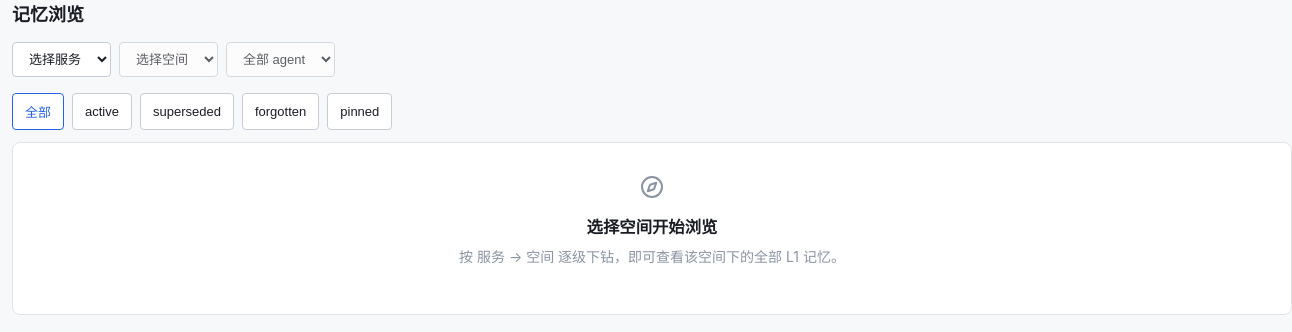
Test: memories page (M3-05) › status filter shows only matching rows
This screenshot has width=1292, height=332.
Select "work" in the dropdown named "service". click: (62, 60)
box: left=12, top=42, right=111, bottom=77
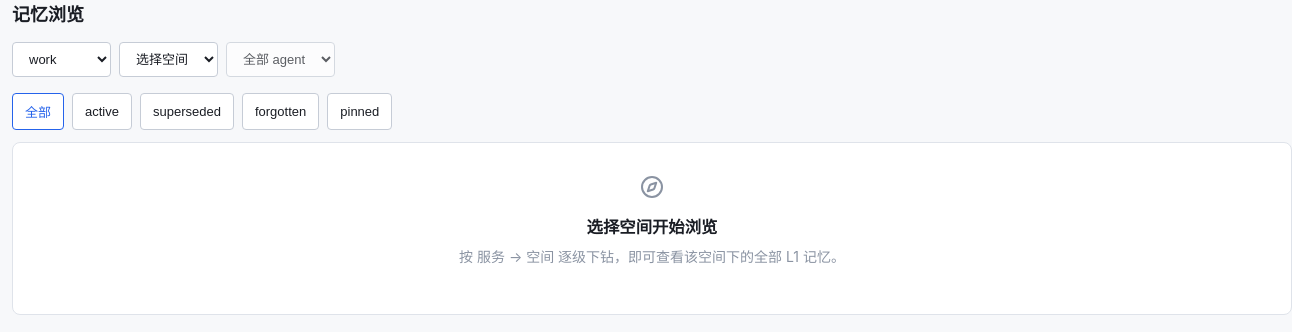
Select "default" in the dropdown named "space". click: (168, 60)
box: left=119, top=42, right=218, bottom=77
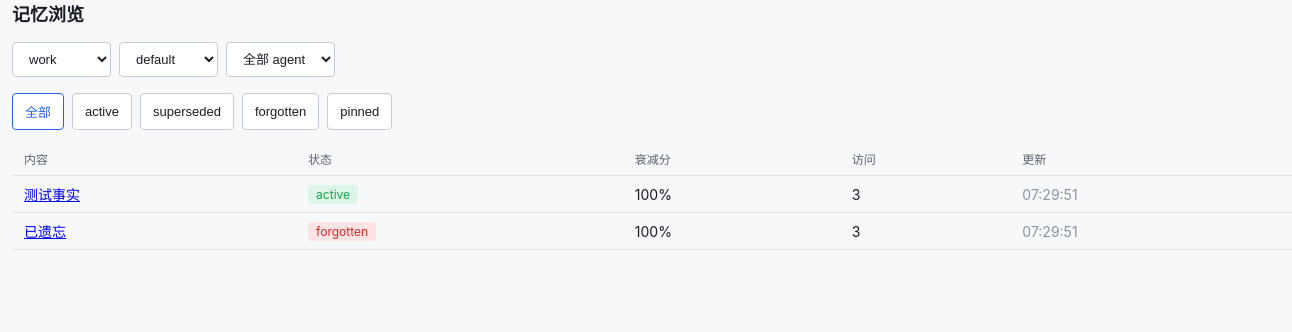
Expected: the table with test id "memory-table" is shown, left=12, top=142, right=1291, bottom=250
Note: first match is the filter button (badge in the table also says forgotten)
Click the button "forgotten". click: (281, 112)
box: left=242, top=93, right=319, bottom=130
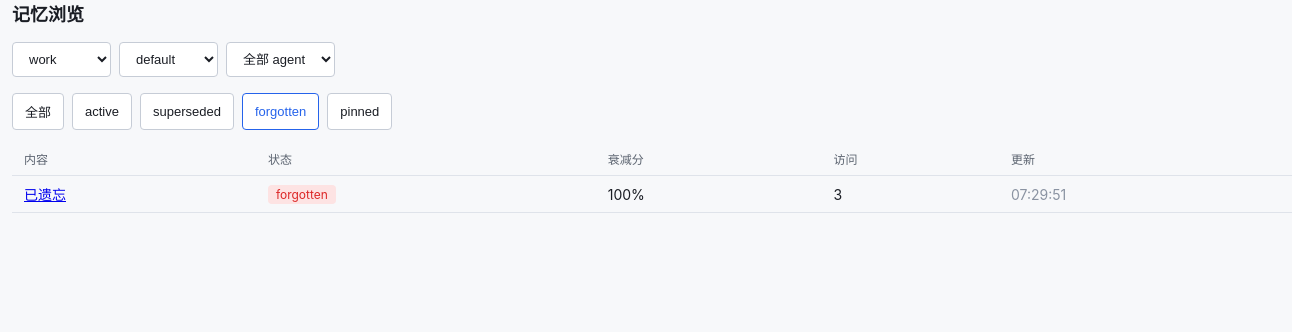
Expected: the link "已遗忘" is shown, left=24, top=186, right=66, bottom=203
Expected: the link "测试事实" is gone
